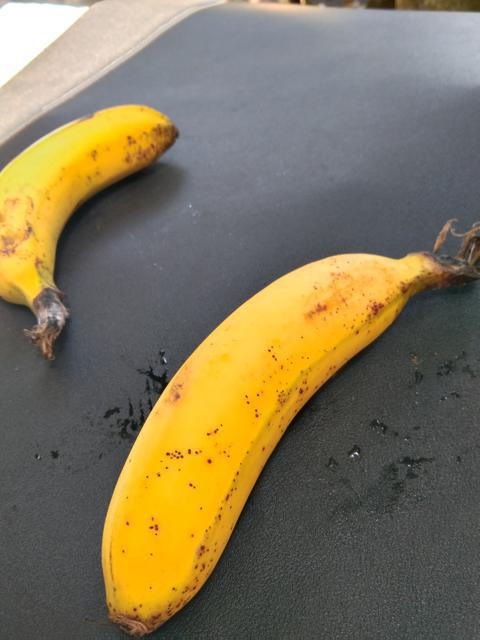ripe: (79, 252, 424, 639), (0, 101, 178, 321)
